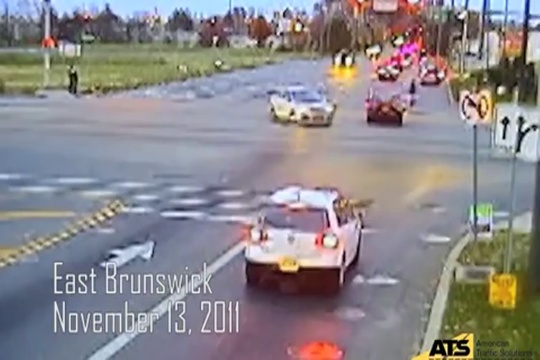car: (252, 185, 361, 290), (258, 80, 342, 129), (365, 89, 413, 131), (376, 60, 413, 85), (331, 47, 361, 74), (419, 64, 448, 82), (365, 45, 383, 59)
